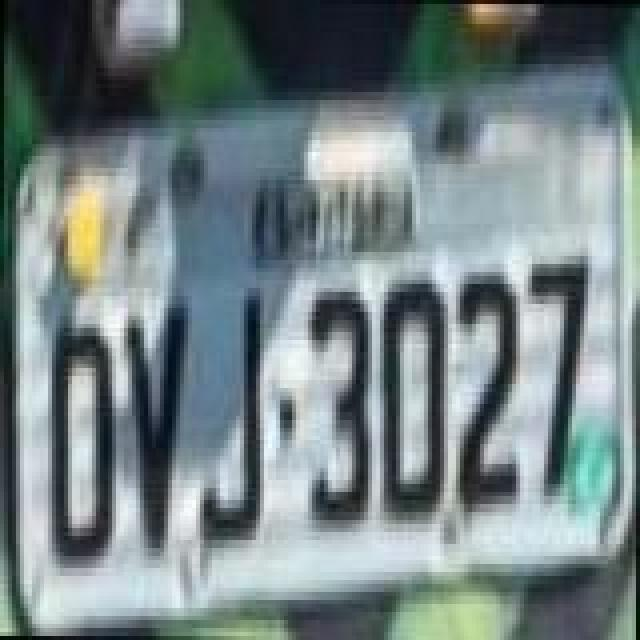2: (450, 270, 526, 514)
3: (298, 284, 374, 532)
7: (522, 252, 590, 500)
D: (48, 326, 120, 570)
J: (196, 288, 268, 552)
O: (378, 274, 454, 526)
V: (116, 298, 188, 558)
